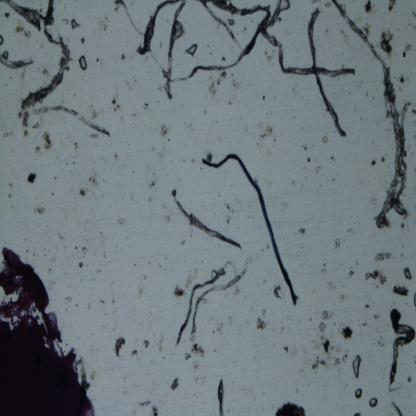Air bubble: (350, 353, 362, 379), (77, 53, 88, 72), (185, 42, 198, 58), (367, 396, 379, 408), (354, 386, 363, 400), (0, 35, 5, 46)
Background material: (253, 122, 277, 152), (379, 26, 395, 58), (273, 400, 307, 415), (77, 173, 98, 197), (207, 71, 227, 94), (364, 267, 386, 287), (184, 346, 207, 365), (18, 112, 31, 139), (318, 309, 331, 335), (40, 130, 54, 153), (113, 334, 126, 358), (320, 334, 333, 357), (61, 15, 80, 30), (340, 323, 355, 342), (158, 123, 171, 144), (393, 282, 410, 298), (310, 355, 327, 371), (96, 14, 110, 32), (136, 279, 150, 297), (374, 251, 393, 263), (173, 284, 187, 300), (154, 330, 163, 354), (113, 212, 128, 226), (391, 400, 404, 416), (16, 24, 30, 38), (281, 344, 295, 358), (364, 0, 376, 15), (402, 42, 412, 60), (254, 316, 266, 331), (331, 236, 342, 251), (110, 97, 121, 112), (27, 172, 37, 188), (335, 352, 345, 368), (138, 396, 152, 407), (404, 264, 412, 282), (265, 50, 275, 64), (56, 226, 64, 242), (230, 74, 238, 90), (364, 23, 372, 39), (37, 205, 47, 217), (148, 176, 158, 188), (0, 125, 10, 136), (142, 338, 151, 350), (388, 0, 397, 12), (171, 378, 179, 391), (3, 9, 12, 20), (397, 74, 406, 85), (338, 290, 346, 302), (150, 404, 158, 416), (376, 337, 384, 349), (320, 134, 329, 144), (44, 283, 54, 291), (314, 164, 322, 174), (326, 280, 334, 290), (76, 261, 86, 269), (298, 226, 306, 235), (348, 269, 356, 278), (368, 157, 377, 165), (139, 101, 148, 109), (305, 155, 313, 164), (81, 246, 88, 256), (5, 190, 12, 200), (372, 312, 380, 320), (120, 53, 127, 62), (130, 349, 139, 356), (80, 34, 86, 44), (73, 140, 78, 152), (361, 320, 368, 328), (228, 18, 235, 26), (98, 298, 105, 306), (63, 297, 71, 304), (44, 67, 51, 75), (112, 154, 120, 161), (320, 263, 325, 274), (410, 10, 416, 19), (364, 301, 370, 310), (345, 226, 351, 234), (406, 375, 412, 383), (380, 154, 386, 162), (413, 293, 416, 308), (221, 54, 226, 63), (352, 412, 362, 416), (303, 144, 308, 152), (10, 180, 15, 188), (74, 302, 80, 308), (261, 94, 266, 101), (96, 55, 100, 63), (53, 175, 58, 181), (75, 245, 79, 252), (50, 190, 54, 196)
Cellulose filter fibre: (332, 0, 410, 229), (118, 0, 270, 88), (262, 0, 356, 79), (174, 266, 249, 350), (21, 2, 72, 110), (308, 8, 346, 138), (172, 192, 242, 251), (33, 104, 112, 139), (137, 0, 178, 56), (164, 1, 187, 100), (386, 308, 414, 386), (200, 0, 241, 50), (0, 54, 32, 71), (216, 376, 227, 416), (273, 285, 283, 300)
Diatom: (198, 154, 300, 305)
Pen: (0, 246, 97, 415)
